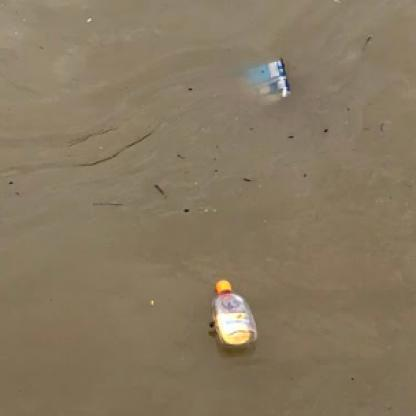plastic bag: (239, 57, 291, 101)
plastic bottle: (211, 279, 257, 346)
